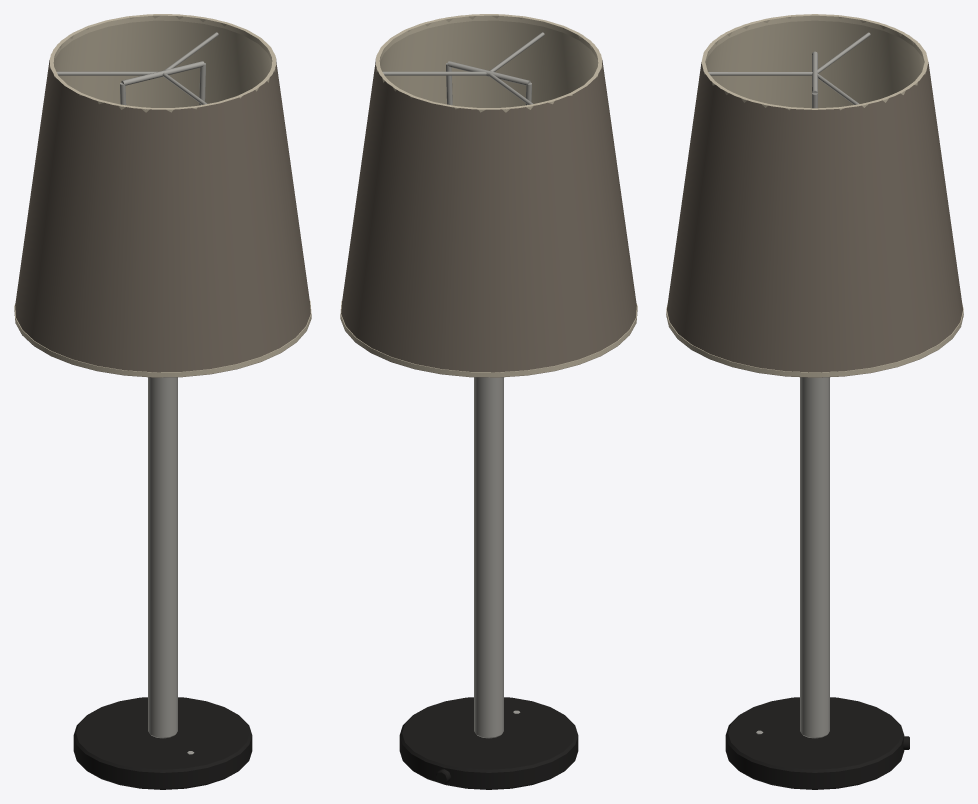
Rendered from bedroom-reading-lamp-6b9cb378a14d.glb.
3 views of the same model, side by side, from view 1: azimuth 30°, elevation 25°; view 2: azimuth 150°, elevation 25°; view 3: azimuth 270°, elevation 25° (orthographic).
Parts seen in each view (by area): view 1: cover-cloth, cloth-cream, brushed, enamel-black; view 2: cover-cloth, cloth-cream, brushed, enamel-black; view 3: cover-cloth, cloth-cream, enamel-black, brushed.
Boxes of the visible parts, bbox=[...] form: cover-cloth: bbox=[14, 60, 310, 377]; cloth-cream: bbox=[14, 14, 311, 377]; brushed: bbox=[56, 32, 218, 754]; enamel-black: bbox=[73, 697, 252, 789]; cover-cloth: bbox=[341, 60, 637, 377]; cloth-cream: bbox=[340, 14, 637, 377]; brushed: bbox=[382, 32, 544, 738]; enamel-black: bbox=[399, 697, 578, 789]; cover-cloth: bbox=[666, 62, 963, 377]; cloth-cream: bbox=[666, 14, 963, 377]; enamel-black: bbox=[725, 697, 904, 789]; brushed: bbox=[708, 32, 870, 738].
Size of the model in its own units: 0.16 by 0.41 by 0.16.
